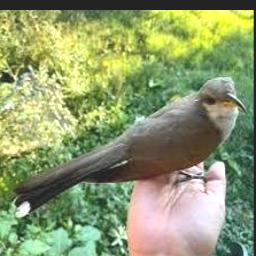Cuckoo: (14, 77, 247, 218)
